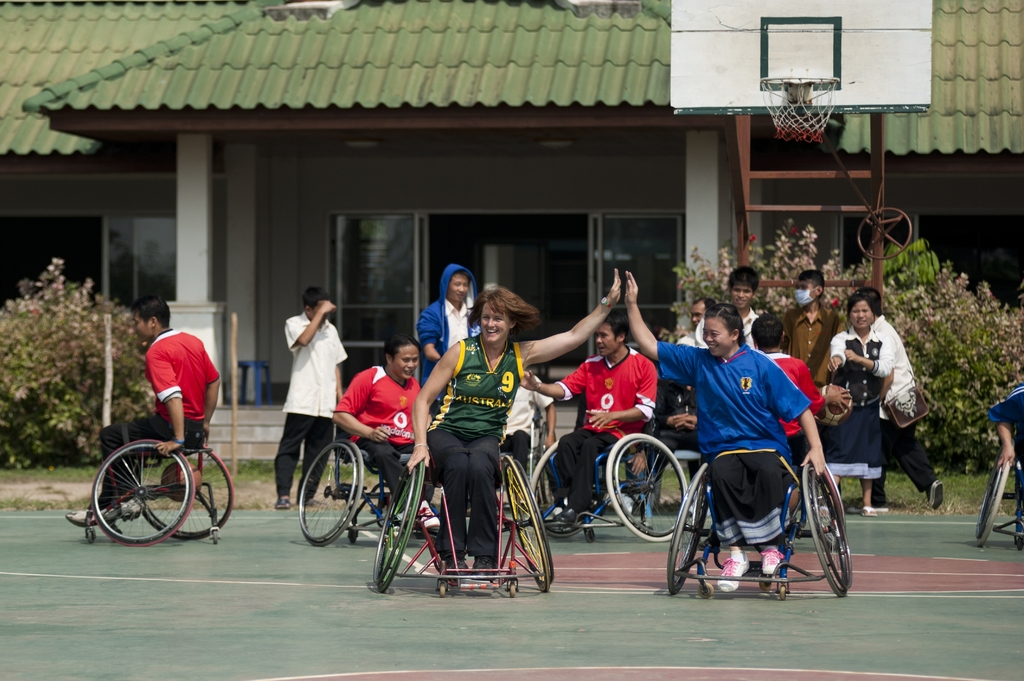Person: (284, 261, 944, 593), (60, 294, 220, 527), (986, 386, 1024, 470)
